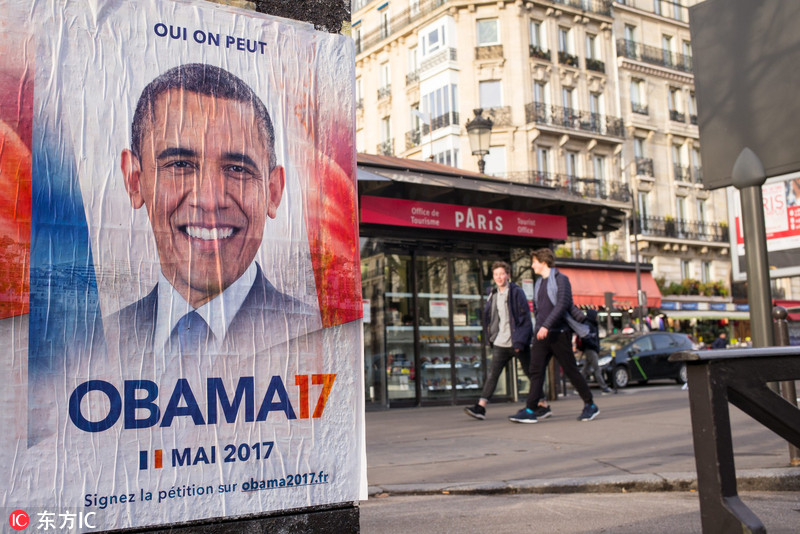bill: (1, 1, 366, 534)
